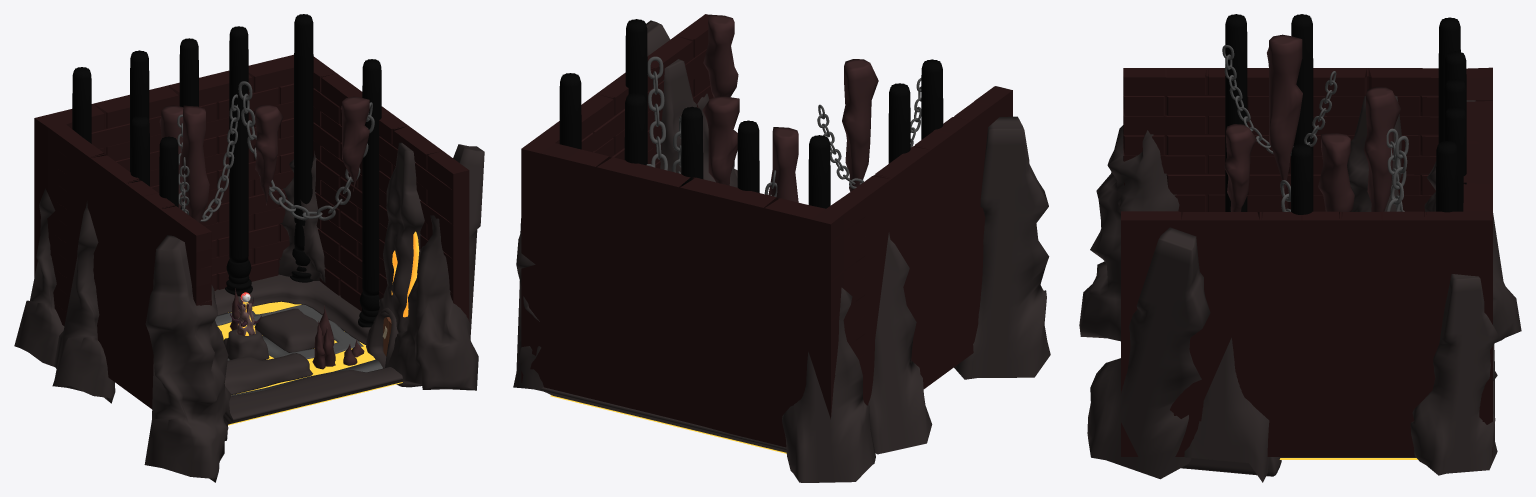
File: Map_1.fbx
3 renders of one model, left to right at view 1: azimuth 30°, elevation 25°; view 2: azimuth 150°, elevation 25°; view 3: azimuth 270°, elevation 25°, orthographic. The views are drawn at different scales.
Visible parts, largest first — view 1: Cube.002, Cube.025, Cube.026, Cube.028, Cylinder.015, Cube.007, Cylinder, Cylinder.012, Wall, Cube.029, Wall.005, Cube.006 (+18 smaller); view 2: Cube.002, Cube.025, Cube.029, Cube.028, Cube.006, Cube.003, Cube.005, Cube.007, Cube.004, Cylinder.012, Cylinder, Cylinder.007 (+10 smaller); view 3: Cube.002, Cube.026, Cube.027, Cube.025, Cube.007, Cube.006, Cube.004, Cylinder.003, Cube.003, Cube.028, Cylinder.007, Cube.029 (+10 smaller).
Part boxes in pixels (x1=…): Cube.002: x1=34, y1=54, x2=469, y2=409; Cube.025: x1=144, y1=235, x2=233, y2=482; Cube.026: x1=386, y1=144, x2=484, y2=390; Cube.028: x1=52, y1=201, x2=115, y2=403; Cylinder.015: x1=225, y1=26, x2=252, y2=296; Cube.007: x1=373, y1=142, x2=424, y2=332; Cylinder: x1=290, y1=14, x2=313, y2=282; Cylinder.012: x1=358, y1=59, x2=381, y2=327; Wall: x1=228, y1=367, x2=402, y2=424; Cube.029: x1=14, y1=188, x2=64, y2=367; Wall.005: x1=214, y1=274, x2=370, y2=344; Cube.006: x1=178, y1=105, x2=209, y2=222; Cube.002: x1=521, y1=14, x2=1012, y2=447; Cube.025: x1=954, y1=116, x2=1050, y2=379; Cube.029: x1=782, y1=287, x2=875, y2=482; Cube.028: x1=868, y1=232, x2=932, y2=454; Cube.006: x1=842, y1=59, x2=878, y2=191; Cube.003: x1=702, y1=96, x2=739, y2=185; Cube.005: x1=703, y1=14, x2=738, y2=97; Cube.007: x1=654, y1=59, x2=697, y2=173; Cube.004: x1=768, y1=127, x2=798, y2=202; Cylinder.012: x1=625, y1=19, x2=647, y2=163; Cylinder: x1=559, y1=73, x2=581, y2=149; Cylinder.007: x1=888, y1=83, x2=910, y2=163; Cube.002: x1=1121, y1=67, x2=1492, y2=456; Cube.026: x1=1087, y1=227, x2=1210, y2=479; Cube.027: x1=1410, y1=274, x2=1499, y2=475; Cube.025: x1=1079, y1=125, x2=1179, y2=341; Cube.007: x1=1184, y1=338, x2=1269, y2=482; Cube.006: x1=1267, y1=34, x2=1302, y2=192; Cube.004: x1=1363, y1=86, x2=1400, y2=211; Cylinder.003: x1=1225, y1=14, x2=1247, y2=211; Cube.003: x1=1318, y1=133, x2=1354, y2=211; Cube.028: x1=1347, y1=95, x2=1401, y2=211; Cylinder.007: x1=1291, y1=14, x2=1313, y2=187; Cube.029: x1=1424, y1=100, x2=1521, y2=342.
Bounding box in the file's own units: 2125 × 1723 × 2017.
